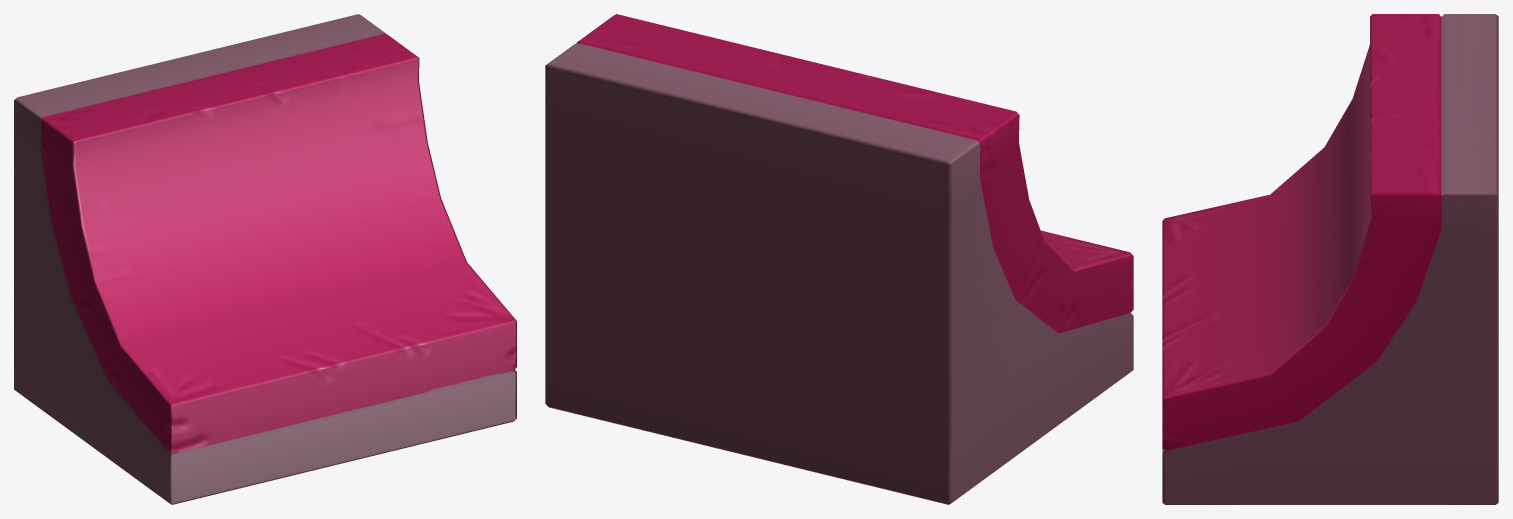
The model's file is OBS0110031.fbx.
The picture shows the model from 3 angles, left to right: view 1: azimuth 30°, elevation 25°; view 2: azimuth 150°, elevation 25°; view 3: azimuth 270°, elevation 25°; orthographic projection. The views are drawn at different scales.
Parts seen in each view (by area): view 1: smOBS0110031; view 2: smOBS0110031; view 3: smOBS0110031.
Part boxes in pixels (left/top/right/bottom): smOBS0110031: left=14, top=14, right=516, bottom=504; smOBS0110031: left=545, top=14, right=1133, bottom=504; smOBS0110031: left=1162, top=14, right=1498, bottom=504.
Bounding box in the file's own units: 299 × 242 × 235.
1 material, 1 textured.
